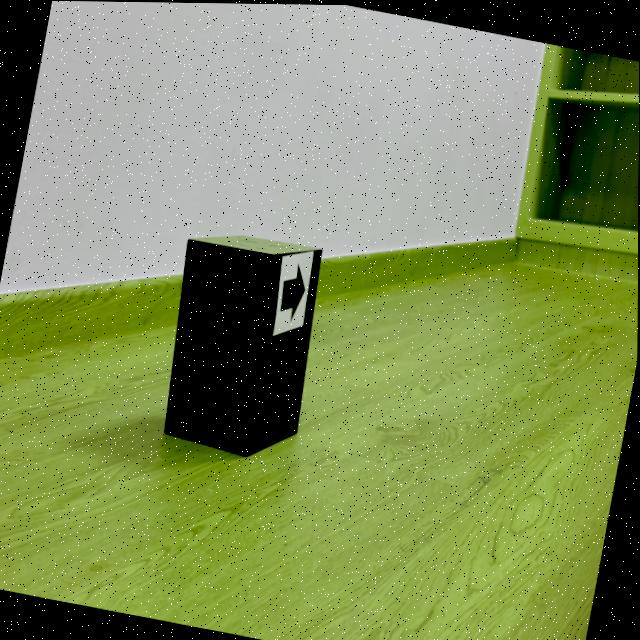RIGHT: (280, 264, 306, 319)
